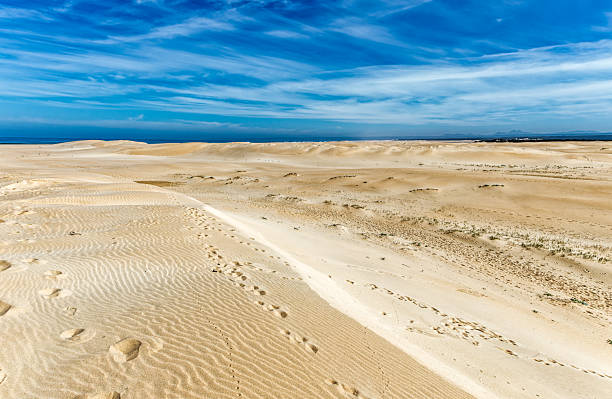human_foot_print: (365, 283, 611, 378), (366, 283, 516, 348), (365, 283, 515, 345), (206, 244, 300, 295), (187, 208, 267, 252), (208, 245, 275, 296), (210, 247, 266, 295), (207, 318, 241, 396), (432, 316, 516, 345), (212, 261, 266, 295), (212, 262, 266, 295), (531, 356, 611, 378), (363, 339, 390, 396), (212, 268, 266, 295), (244, 262, 302, 280), (279, 329, 318, 353), (326, 378, 366, 398), (109, 338, 141, 362), (211, 262, 247, 280), (254, 300, 287, 318), (0, 259, 37, 275), (38, 287, 71, 298), (38, 288, 71, 298), (73, 391, 120, 398), (60, 328, 84, 340), (38, 288, 61, 298), (89, 391, 120, 398), (245, 285, 266, 295), (12, 206, 35, 215), (43, 269, 62, 278), (22, 257, 46, 264), (0, 300, 11, 315), (304, 342, 318, 353), (230, 271, 247, 280), (62, 306, 77, 316), (0, 259, 11, 271), (272, 309, 287, 317), (0, 368, 6, 384)
